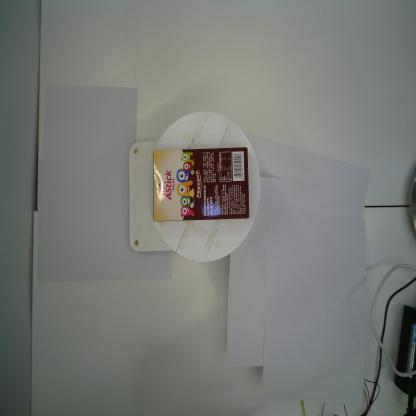Dessert: (152, 147, 250, 222)
